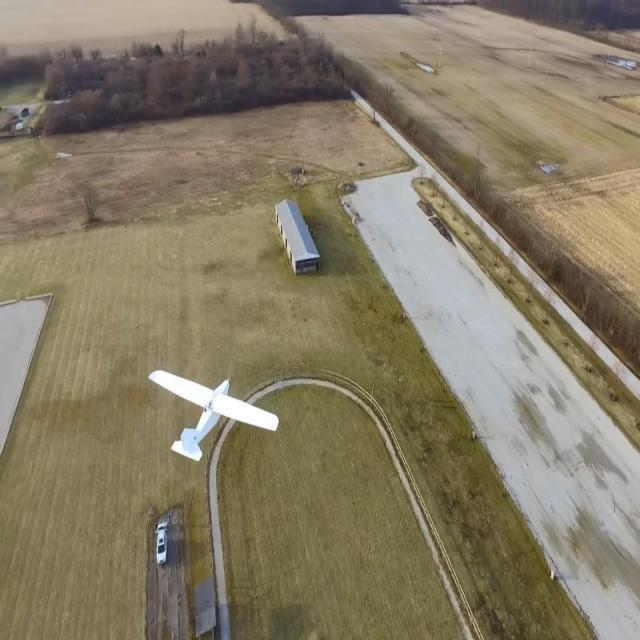iha: (148, 395, 278, 429)
